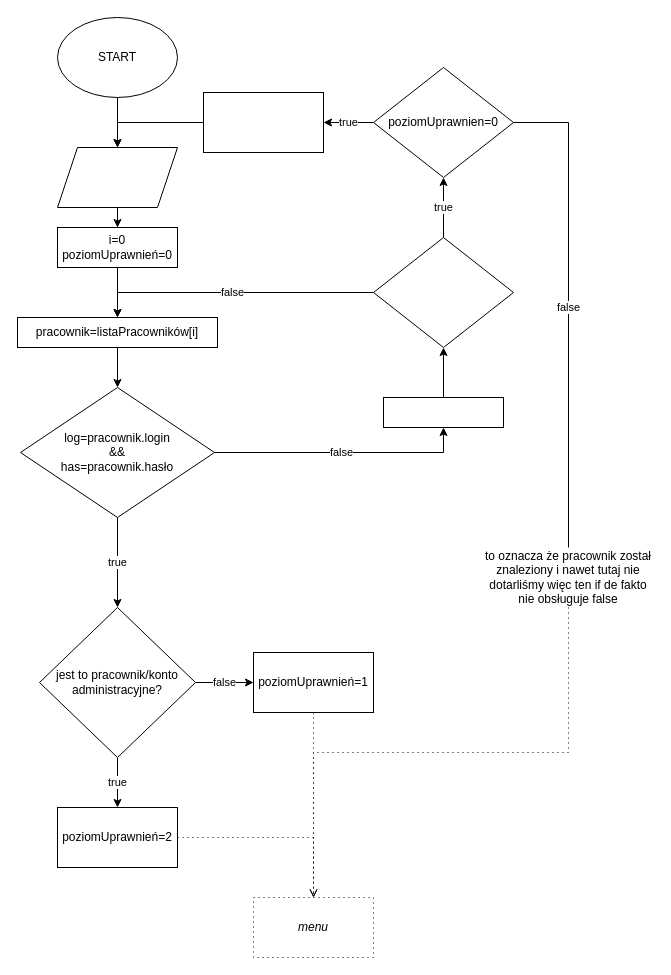
This 671x975 diagram has some shape labels left out. The shapes that lost their labels are listed below. From the top down, each one's centre as x and y in pixels, then its label:
(x=263, y=122): "Nie znalezniono konta"
(x=117, y=177): log has
(x=443, y=292): i>listaPracowników.size
(x=443, y=412): i=i+1
